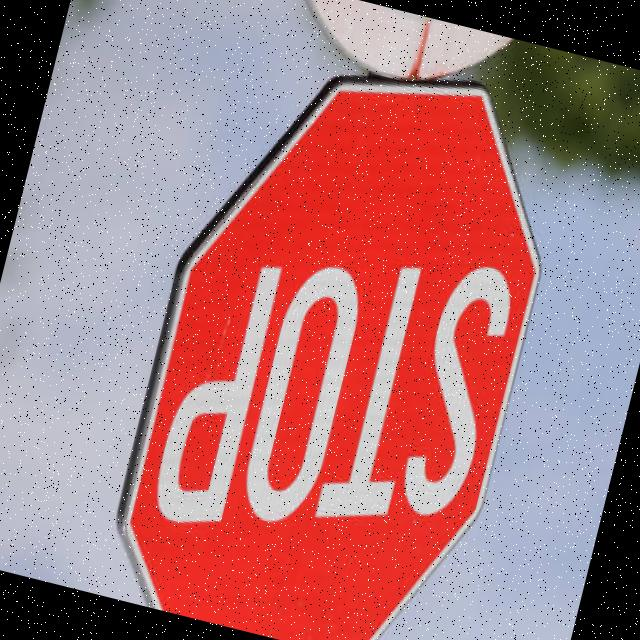stop: (83, 18, 594, 640)
